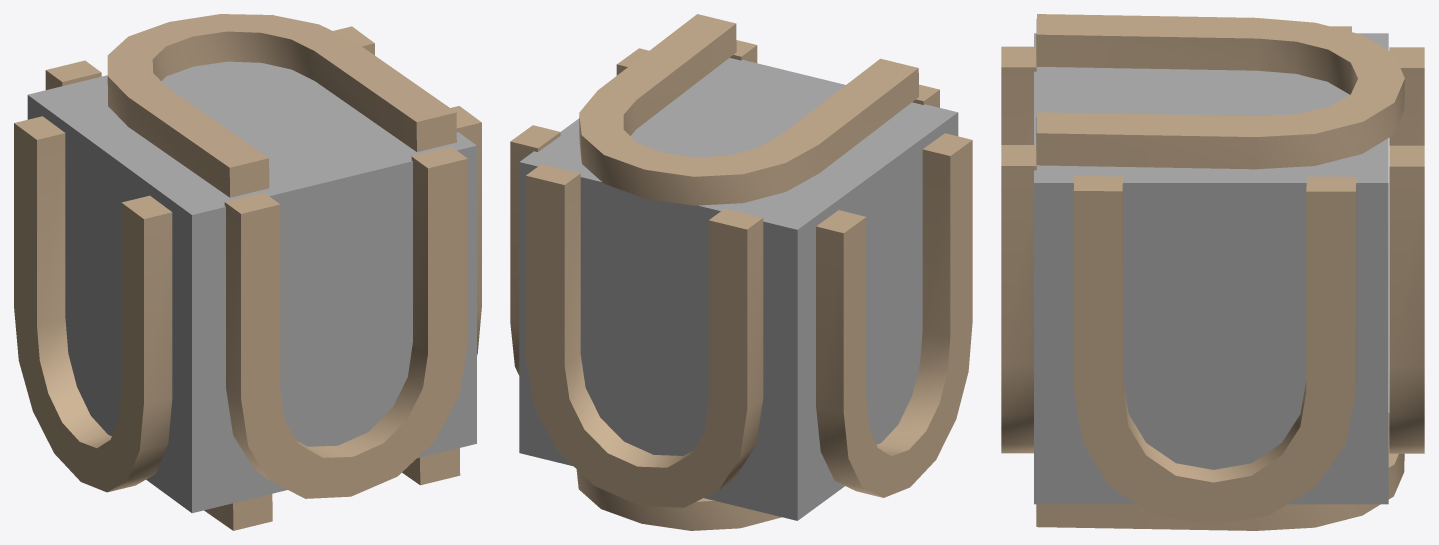
The model's file is LetterU.fbx.
The picture shows the model from 3 angles, left to right: view 1: azimuth 30°, elevation 25°; view 2: azimuth 150°, elevation 25°; view 3: azimuth 270°, elevation 25°; orthographic projection. The views are drawn at different scales.
Parts seen in each view (by area): view 1: Box, Text Front, Text Left, Text Top, Text Bottom, Text Right, Text Back; view 2: Box, Text Back, Text Left, Text Top, Text Bottom, Text Right, Text Front; view 3: Box, Text Right, Text Top, Text Back, Text Front, Text Bottom.
Boxes of the visible parts, x1,y1,x2,y2 form: Box: [27, 61, 476, 513]; Text Front: [224, 146, 467, 498]; Text Left: [14, 116, 172, 492]; Text Top: [107, 14, 456, 197]; Text Bottom: [204, 448, 460, 530]; Text Right: [333, 26, 481, 354]; Text Back: [45, 14, 272, 89]; Box: [519, 58, 958, 520]; Text Back: [525, 164, 763, 507]; Text Left: [816, 133, 972, 497]; Text Top: [579, 14, 918, 205]; Text Bottom: [576, 469, 781, 530]; Text Right: [510, 48, 648, 375]; Text Front: [730, 40, 939, 107]; Box: [1034, 33, 1388, 504]; Text Right: [1073, 176, 1356, 524]; Text Top: [1036, 14, 1404, 169]; Text Back: [1389, 47, 1424, 453]; Text Front: [1001, 46, 1036, 453]; Text Bottom: [1036, 413, 1404, 530].
Bounding box in the file's own units: 1.2 × 1.24 × 1.19.
